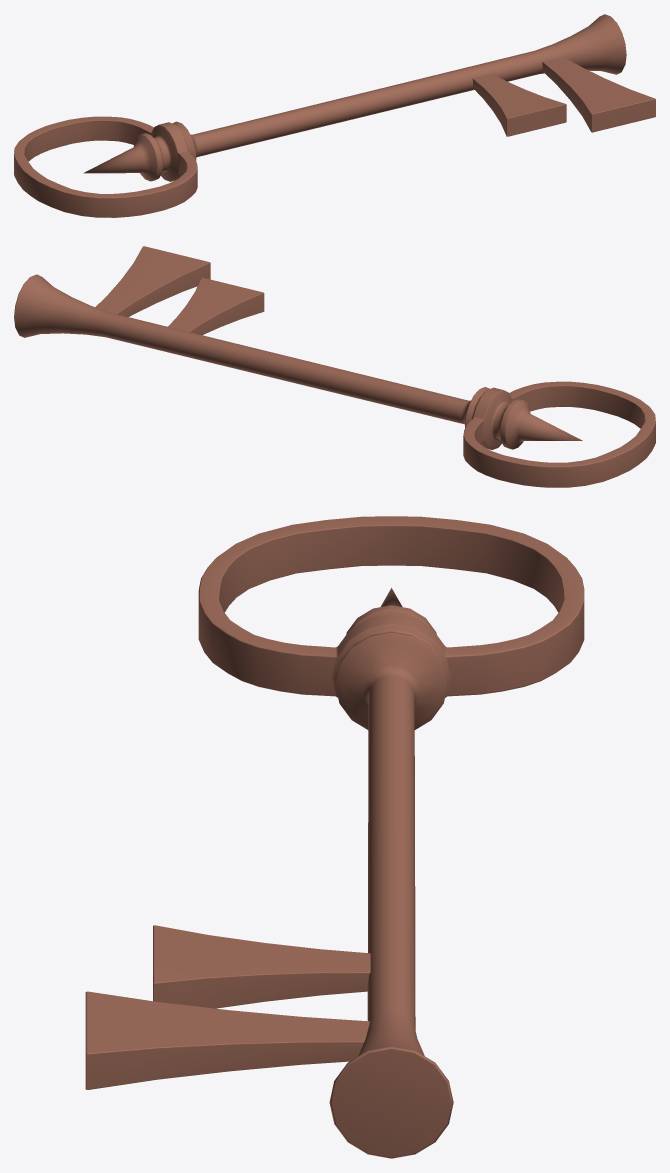
File: cmc_key_low.fbx
3 views of the same model, one above another, from view 1: azimuth 30°, elevation 25°; view 2: azimuth 150°, elevation 25°; view 3: azimuth 270°, elevation 25° (orthographic). The views are drawn at different scales.
Visible parts, largest first — view 1: key_geo_low; view 2: key_geo_low; view 3: key_geo_low.
Part boxes in pixels (box(x1,y1,x2,y2)): key_geo_low: box(14, 14, 655, 217); key_geo_low: box(14, 246, 655, 487); key_geo_low: box(85, 516, 584, 1158).
Size of the model in its own units: 5.09 by 0.47 by 1.89.
